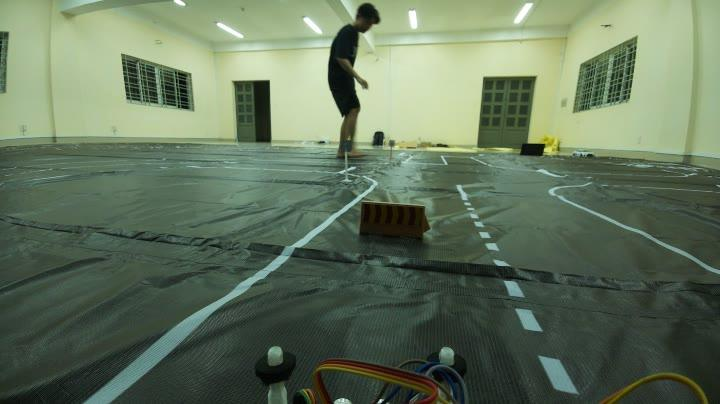roadblock: (354, 192, 437, 252)
